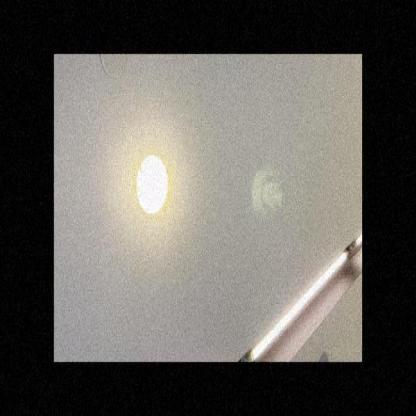light_on: (239, 249, 351, 362), (134, 139, 176, 222), (354, 230, 362, 252)
